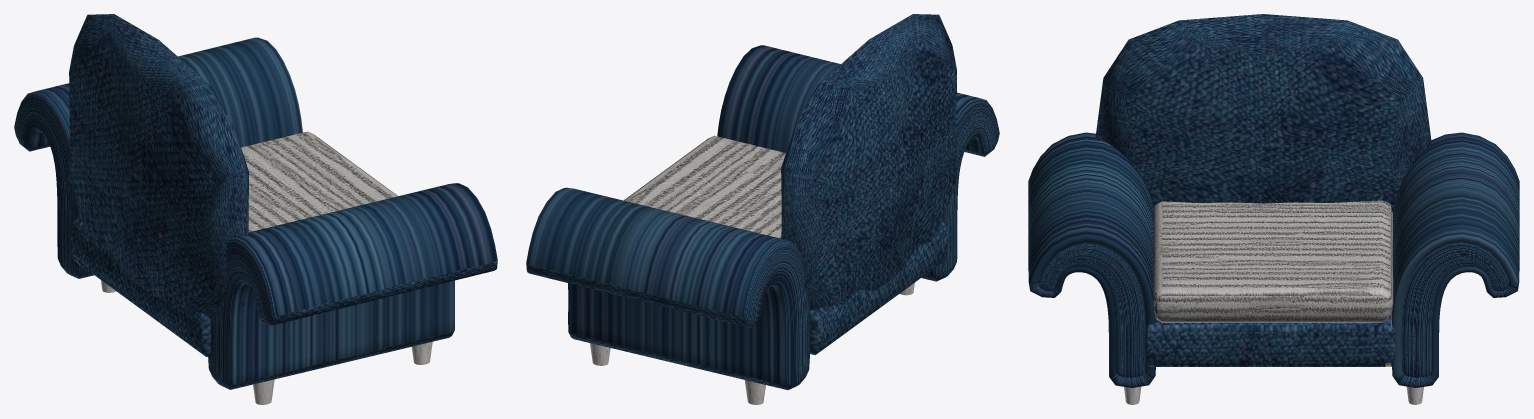
Rendered from single_couch.fbx.
3 views of the same model, side by side, from view 1: azimuth 30°, elevation 25°; view 2: azimuth 150°, elevation 25°; view 3: azimuth 270°, elevation 25° (orthographic). The views are drawn at different scales.
Visible parts, largest first — view 1: pCube30, pCube37, pCube32, pCube35, pCube36, pCylinder14; view 2: pCube32, pCube37, pCube30, pCube35, pCube36, pCylinder15; view 3: pCube37, pCube35, pCube32, pCube30, pCube36.
Boxes of the visible parts, x1,y1,x2,y2 form: pCube30: (208,183,497,389); pCube37: (69,14,248,319); pCube32: (14,37,302,278); pCube35: (241,131,397,232); pCube36: (70,217,210,356); pCylinder14: (253,379,274,404); pCube32: (526,187,809,389); pCube37: (781,14,956,310); pCube30: (717,45,999,281); pCube35: (624,135,785,238); pCube36: (810,221,948,355); pCylinder15: (744,380,765,404); pCube37: (1095,14,1431,212); pCube35: (1153,200,1393,322); pCube32: (1392,132,1519,387); pCube30: (1028,132,1155,387); pCube36: (1145,312,1395,366).
Bounding box in the file's own units: 8.03 × 9.72 × 14.48.
Materials: 1 (1 with a texture image).
